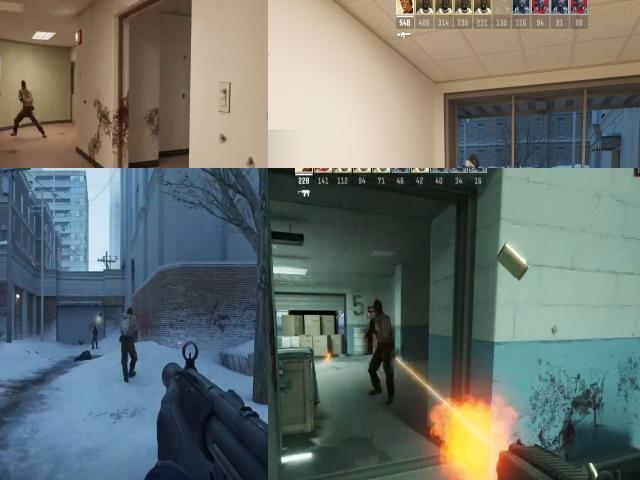CT: (92, 324, 100, 346)
CT-Head: (466, 154, 478, 168)
Dead: (76, 349, 95, 363)
T: (370, 305, 394, 359), (120, 315, 140, 346), (17, 78, 33, 112)
T-Head: (368, 297, 389, 325), (125, 306, 134, 323), (21, 79, 28, 90)
